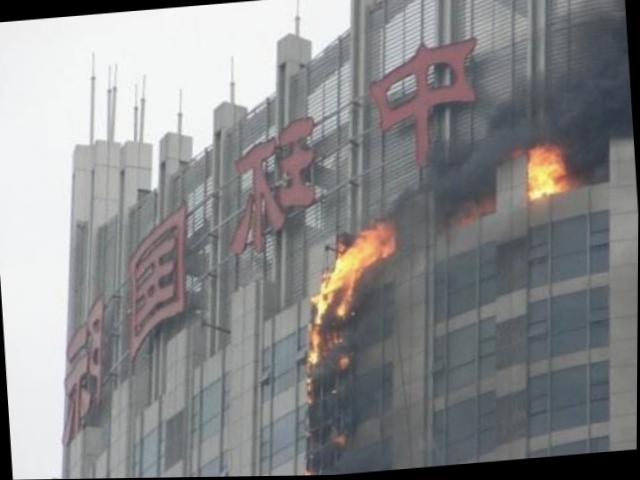fire: (287, 218, 414, 462), (513, 136, 573, 201)
